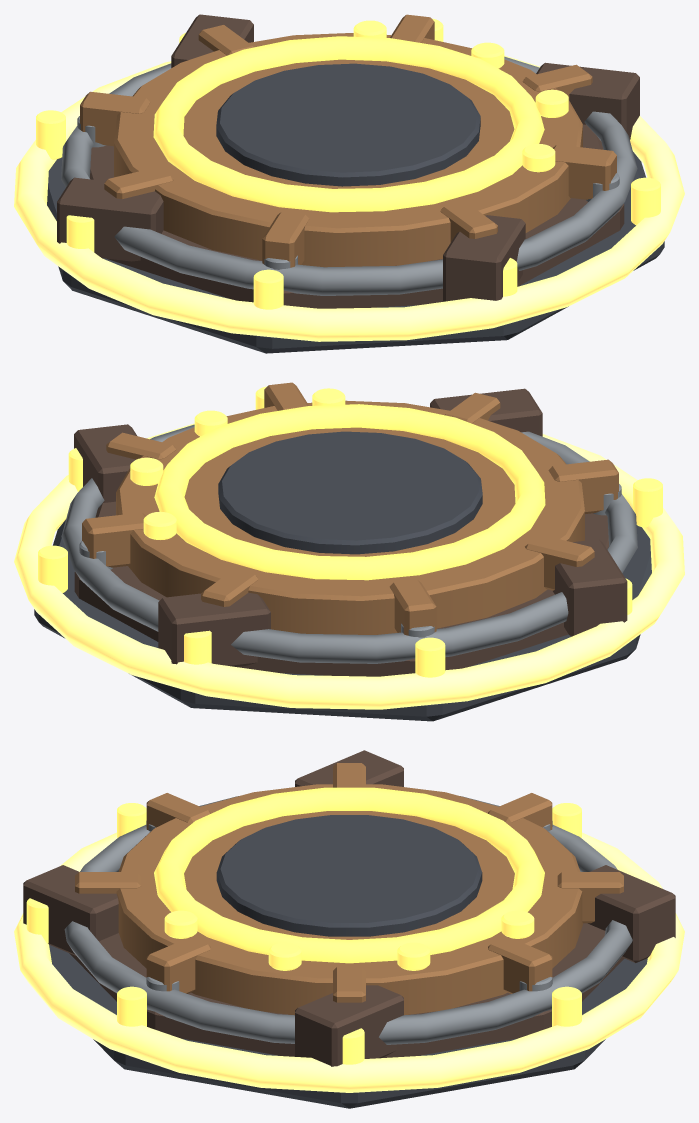
The model's file is cannon_base_l4.glb.
3 renders of one model, top to bottom at view 1: azimuth 30°, elevation 25°; view 2: azimuth 150°, elevation 25°; view 3: azimuth 270°, elevation 25°, orthographic.
Visible parts, largest first — view 1: Cylinder.002, Torus.002, Cylinder.003, Torus.001, Torus, Cylinder, Cylinder.001, Cube.010, Cube.011, Cube.008, Cube.007, Cube.003 (+15 smaller); view 2: Cylinder.002, Torus.002, Cylinder.003, Torus.001, Torus, Cylinder, Cylinder.001, Cube.009, Cube.010, Cube.008, Cube.001, Cube.011 (+16 smaller); view 3: Cylinder.002, Torus.002, Cylinder.003, Torus.001, Torus, Cylinder, Cylinder.001, Cube.008, Cube.011, Cube.009, Cube.001, Cube.007 (+17 smaller).
Boxes of the visible parts, left/top/right/bottom form: Cylinder.002: left=114, top=33, right=582, bottom=267; Torus.002: left=14, top=55, right=684, bottom=341; Cylinder.003: left=216, top=63, right=480, bottom=186; Torus.001: left=153, top=36, right=544, bottom=212; Torus: left=61, top=56, right=637, bottom=295; Cylinder: left=47, top=152, right=664, bottom=353; Cylinder.001: left=90, top=124, right=624, bottom=308; Cube.010: left=57, top=177, right=163, bottom=261; Cube.011: left=443, top=215, right=525, bottom=301; Cube.008: left=536, top=62, right=639, bottom=139; Cube.007: left=553, top=144, right=616, bottom=199; Cube.003: left=80, top=91, right=150, bottom=146; Cylinder.002: left=116, top=400, right=584, bottom=634; Torus.002: left=14, top=423, right=684, bottom=709; Cylinder.003: left=218, top=431, right=482, bottom=554; Torus.001: left=154, top=404, right=545, bottom=580; Torus: left=61, top=424, right=637, bottom=663; Cylinder: left=34, top=519, right=651, bottom=721; Cylinder.001: left=74, top=501, right=608, bottom=676; Cube.009: left=158, top=592, right=270, bottom=666; Cube.010: left=553, top=539, right=627, bottom=636; Cube.008: left=74, top=424, right=137, bottom=502; Cube.001: left=82, top=512, right=145, bottom=567; Cube.011: left=430, top=388, right=542, bottom=436; Cylinder.002: left=116, top=784, right=583, bottom=1015; Torus.002: left=14, top=832, right=684, bottom=1092; Cylinder.003: left=216, top=815, right=482, bottom=936; Torus.001: left=154, top=787, right=544, bottom=963; Torus: left=64, top=796, right=632, bottom=1044; Cylinder: left=49, top=945, right=647, bottom=1108; Cylinder.001: left=69, top=923, right=624, bottom=1057; Cube.008: left=295, top=985, right=403, bottom=1066; Cube.011: left=23, top=865, right=118, bottom=956; Cube.009: left=588, top=865, right=675, bottom=962; Cube.001: left=488, top=937, right=552, bottom=993; Cube.007: left=146, top=937, right=210, bottom=993.
Size of the model in its own units: 2.22 by 0.4 by 2.22.
